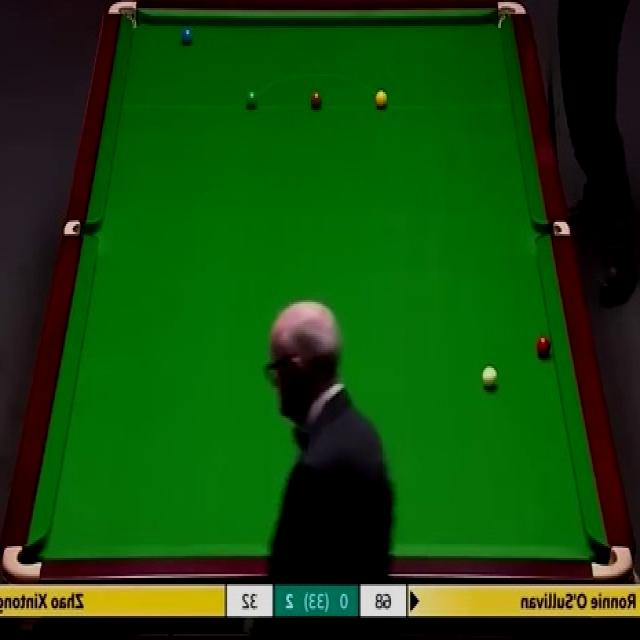blue-ball: (181, 27, 194, 44)
brown-ball: (309, 88, 324, 110)
green-ball: (245, 90, 260, 110)
red-ball: (535, 336, 552, 358)
white-ball: (482, 363, 498, 390)
yellow-ball: (375, 88, 388, 109)
